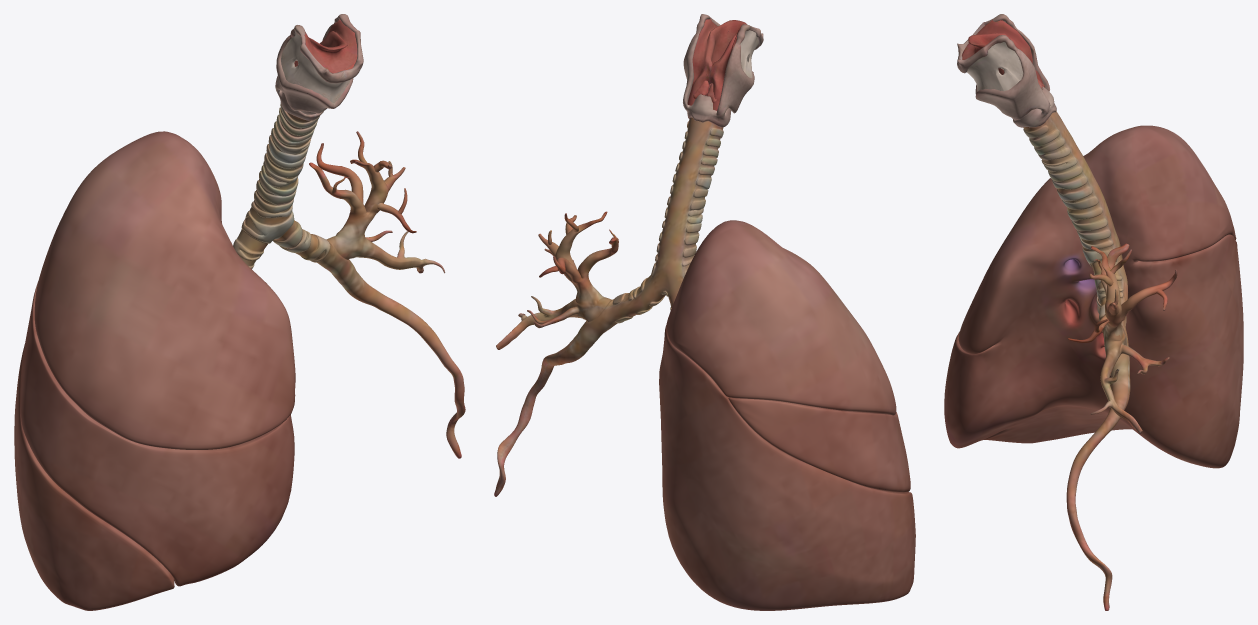
Rendered from respiratory-system.glb.
The picture shows the model from 3 angles, left to right: view 1: azimuth 30°, elevation 25°; view 2: azimuth 150°, elevation 25°; view 3: azimuth 270°, elevation 25°; orthographic projection. The views are drawn at different scales.
Parts seen in each view (by area): view 1: RespiratoyLung, RespiratoyTrachea, RespiratoyThyroidCartliage, RespiratoyThyroidMembrane, RespiratoyEpiglotis; view 2: RespiratoyLung, RespiratoyTrachea, RespiratoyThyroidCartliage, RespiratoyEpiglotis, RespiratoyThyroidMembrane; view 3: RespiratoyLung, RespiratoyTrachea, RespiratoyThyroidCartliage, RespiratoyThyroidMembrane, RespiratoyEpiglotis.
Boxes of the visible parts, x1,y1,x2,y2 form: RespiratoyLung: (14, 131, 295, 610); RespiratoyTrachea: (233, 102, 465, 458); RespiratoyThyroidCartliage: (275, 14, 363, 120); RespiratoyThyroidMembrane: (281, 31, 350, 103); RespiratoyEpiglotis: (294, 19, 357, 73); RespiratoyLung: (659, 220, 915, 610); RespiratoyTrachea: (494, 117, 723, 496); RespiratoyThyroidCartliage: (683, 14, 763, 127); RespiratoyEpiglotis: (687, 18, 746, 110); RespiratoyThyroidMembrane: (704, 20, 758, 77); RespiratoyLung: (944, 125, 1243, 468); RespiratoyTrachea: (1023, 111, 1177, 610); RespiratoyThyroidCartliage: (957, 14, 1056, 127); RespiratoyThyroidMembrane: (967, 21, 1023, 91); RespiratoyEpiglotis: (962, 20, 1043, 83).
Bounding box in the file's own units: 0.2724 × 0.3289 × 0.1723.
3 materials, 3 textured.
